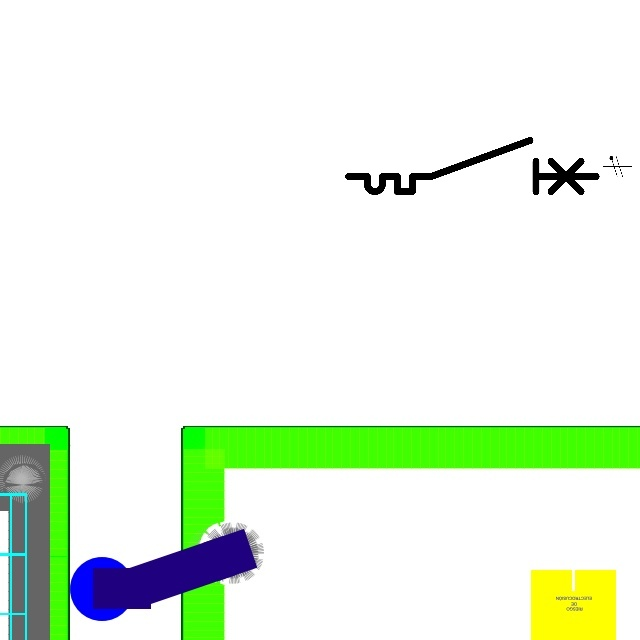interruptor_termomagnetico: (342, 134, 603, 198)
